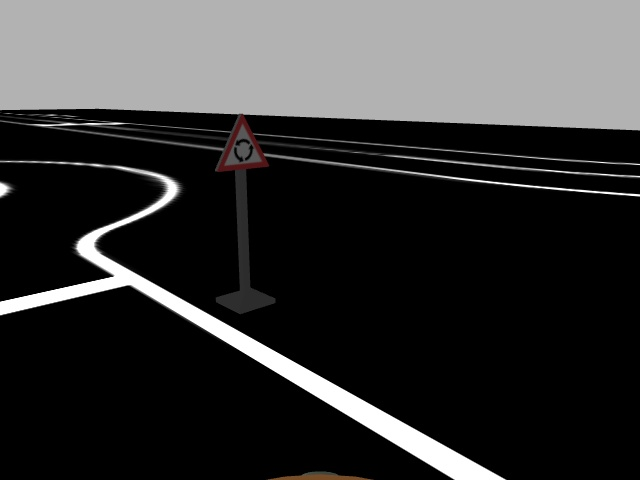roundabout: (213, 113, 271, 172)
